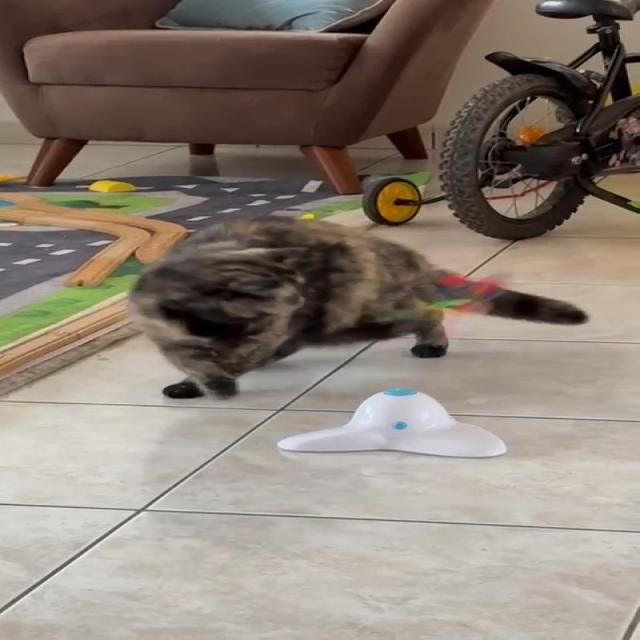authorized: (125, 214, 588, 400)
